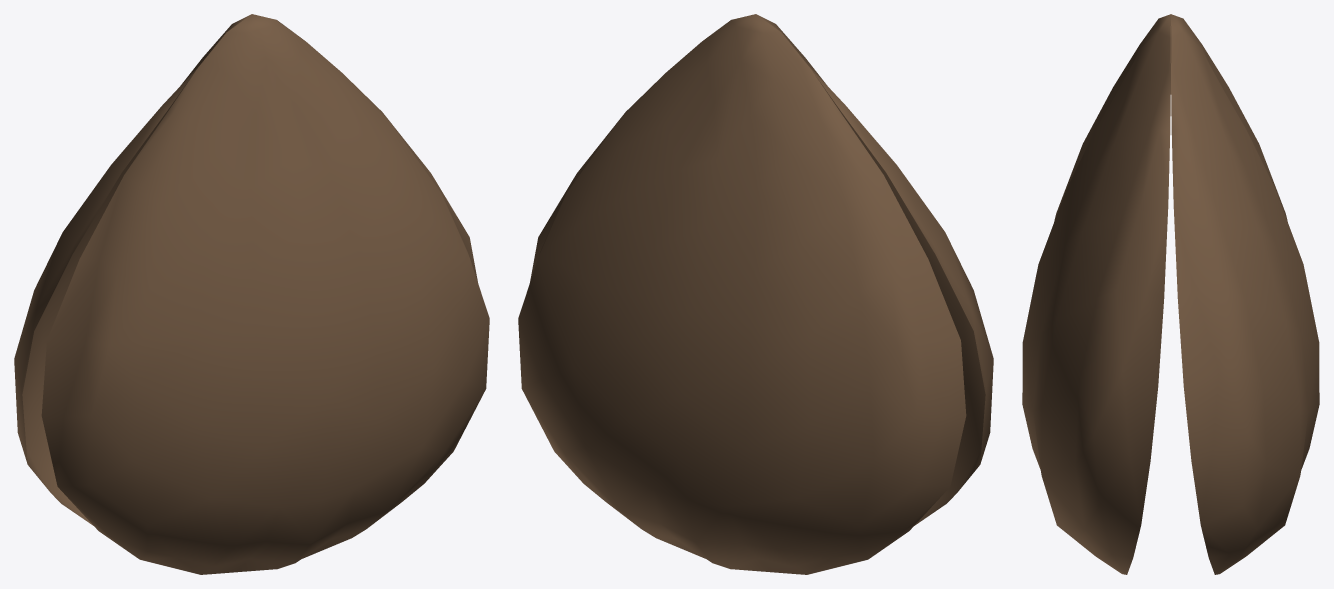
File: SM_Shell_Clam.obj
3 renders of one model, left to right at view 1: azimuth 30°, elevation 25°; view 2: azimuth 150°, elevation 25°; view 3: azimuth 270°, elevation 25°, orthographic.
Visible parts, largest first — view 1: SM_Shell_Clam; view 2: SM_Shell_Clam; view 3: SM_Shell_Clam.
Boxes of the visible parts, <box> form: SM_Shell_Clam: <box>14,14,489,574</box>; SM_Shell_Clam: <box>518,14,993,574</box>; SM_Shell_Clam: <box>1022,14,1319,574</box>.
Size of the model in its own units: 4.3 by 5 by 2.52.
